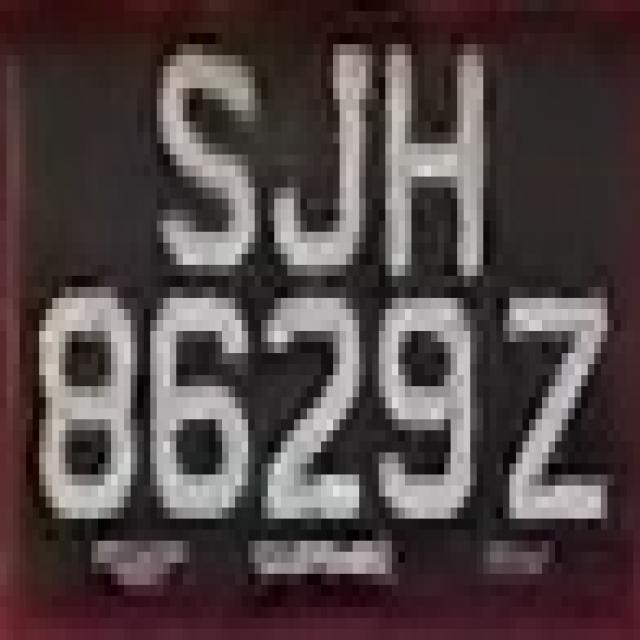2: (248, 264, 372, 530)
6: (156, 265, 255, 541)
8: (26, 276, 144, 530)
9: (359, 264, 477, 530)
H: (360, 22, 510, 309)
J: (261, 33, 372, 265)
S: (150, 0, 268, 309)
Z: (496, 254, 614, 552)
